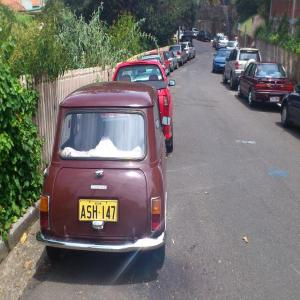Vehicle-registration-plate: (86, 203, 120, 236), (270, 96, 280, 102)
